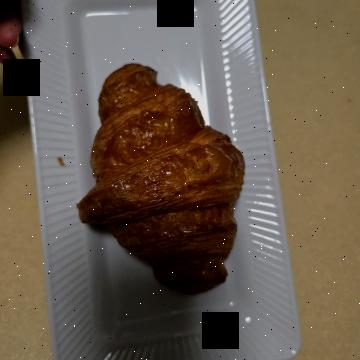croissant: (56, 103, 306, 288)
